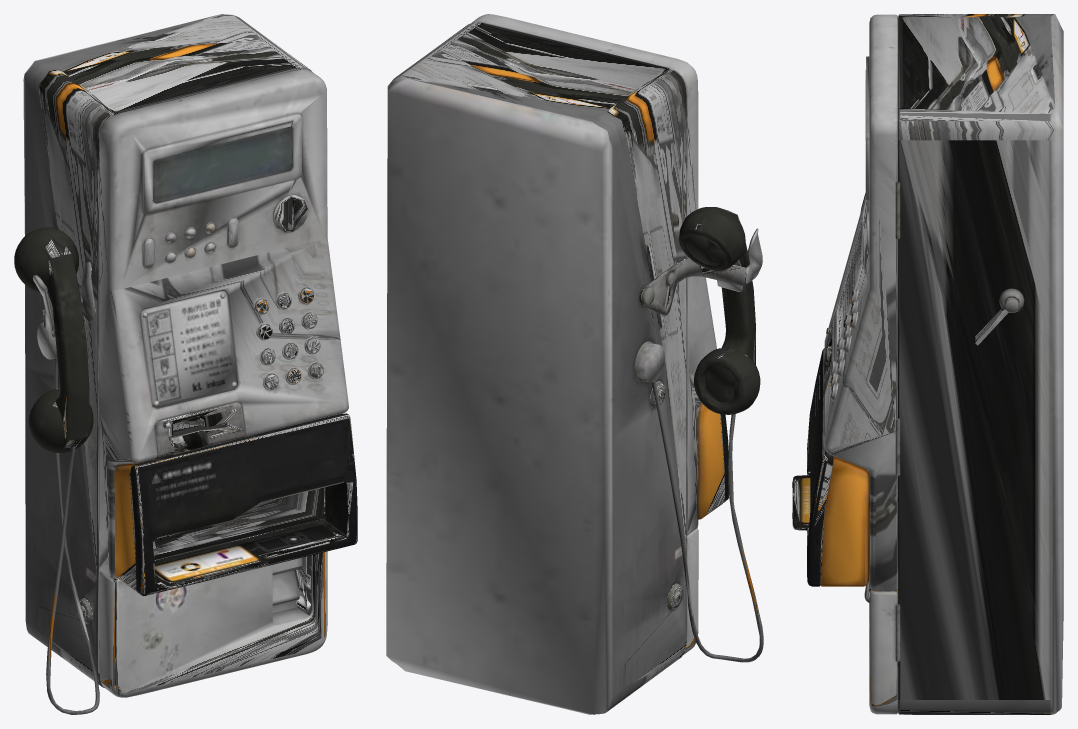
Rendered from korean_public_payphone_01.glb.
3 views of the same model, side by side, from view 1: azimuth 30°, elevation 25°; view 2: azimuth 150°, elevation 25°; view 3: azimuth 270°, elevation 25° (orthographic). The views are drawn at different scales.
Visible parts, largest first — view 1: korean_public_payphone_01; view 2: korean_public_payphone_01; view 3: korean_public_payphone_01.
Part boxes in pixels (x1=…): korean_public_payphone_01: x1=14, y1=14, x2=357, y2=714; korean_public_payphone_01: x1=386, y1=14, x2=763, y2=714; korean_public_payphone_01: x1=792, y1=14, x2=1063, y2=714.
Size of the model in its own units: 0.4004 by 0.7396 by 0.3005.
1 material, 1 textured.
